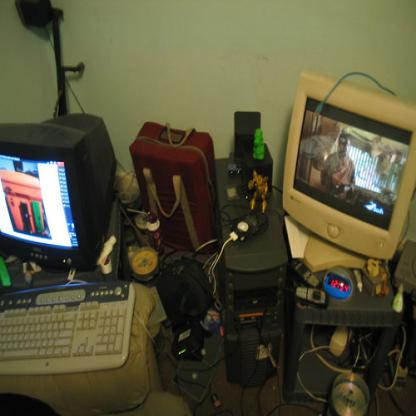tvmonitor: (279, 70, 415, 275), (0, 108, 118, 271)
